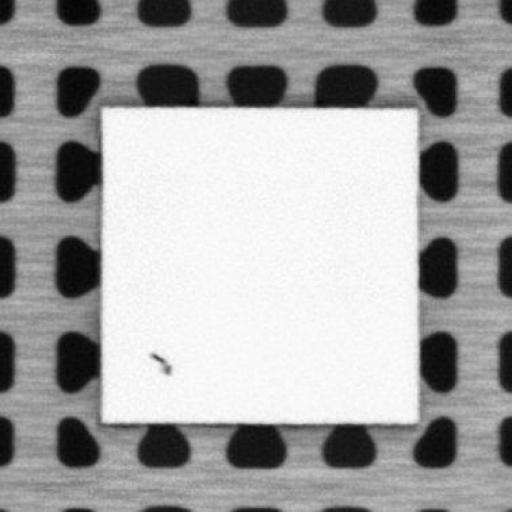DIE_INK: (145, 348, 173, 377)
